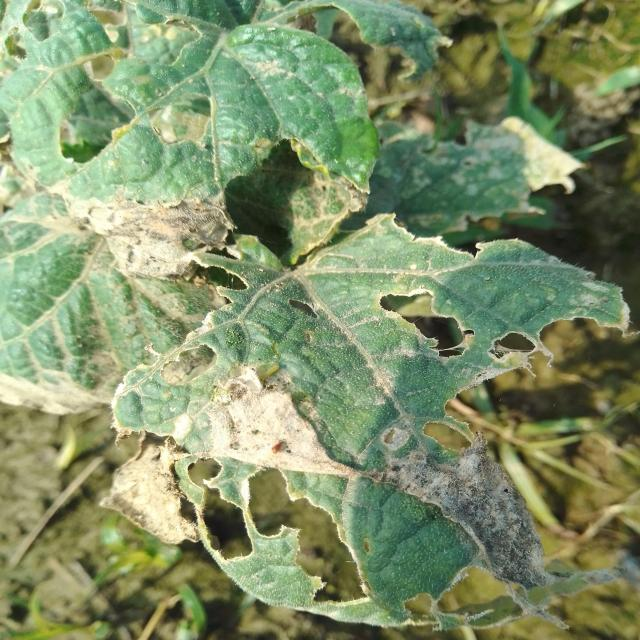cucumber_anthracnose: (114, 394, 536, 623), (8, 3, 378, 259), (0, 281, 617, 388)
